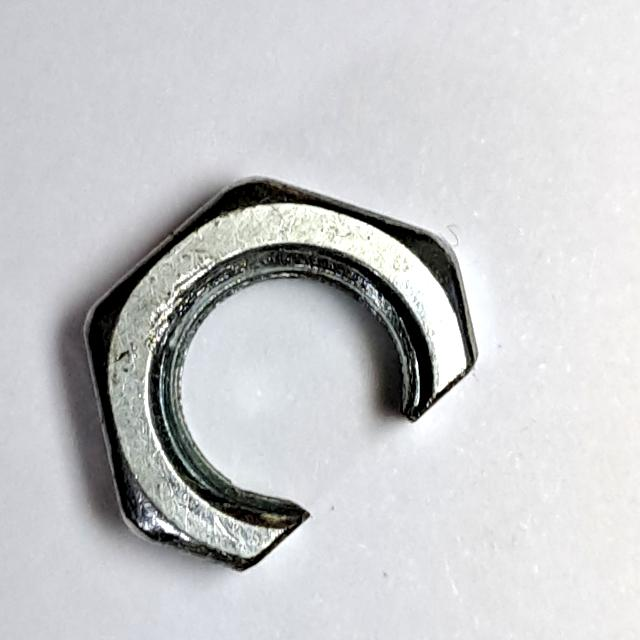Fracture: (70, 167, 516, 594)
